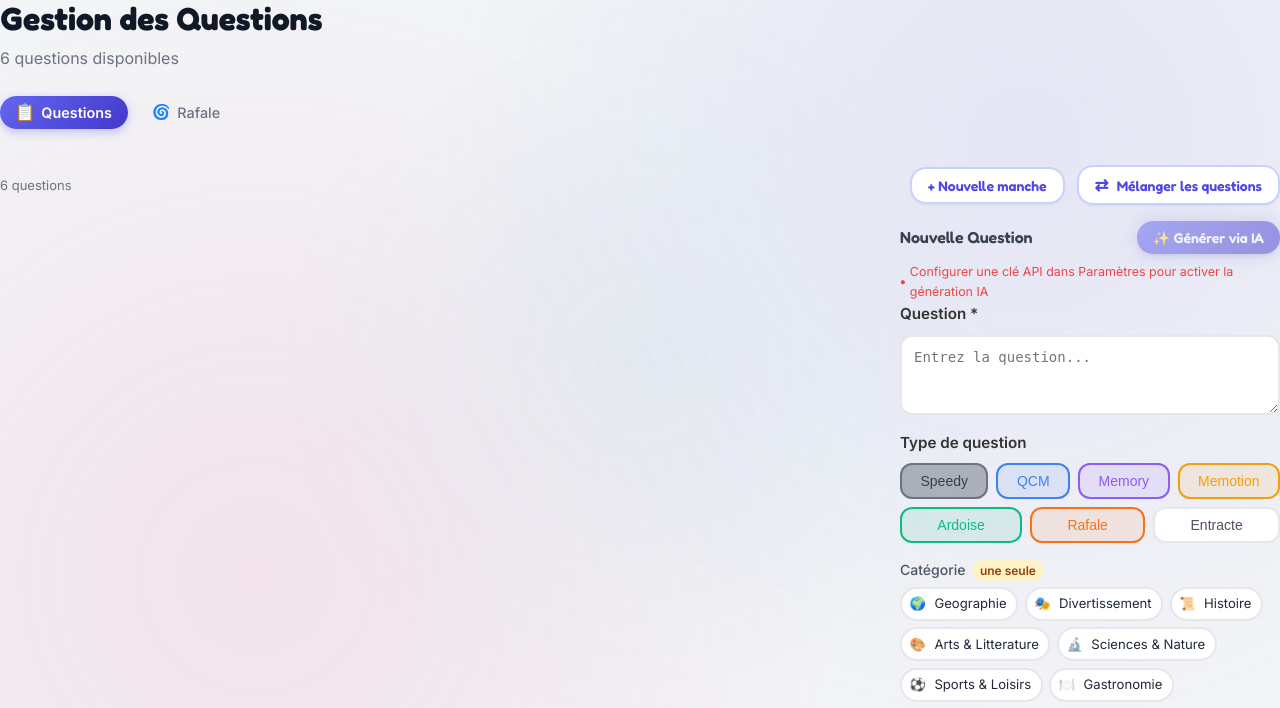
Scenario: QuestionsPage — Mélanger les questions (#149) › échec réseau (WebSocket fermé) -> aucune permutation confirmée, toast d'erreur affiché
Click the button "⇄ Mélanger les questions".
click(1178, 185)  # box [1077,165,1279,205]
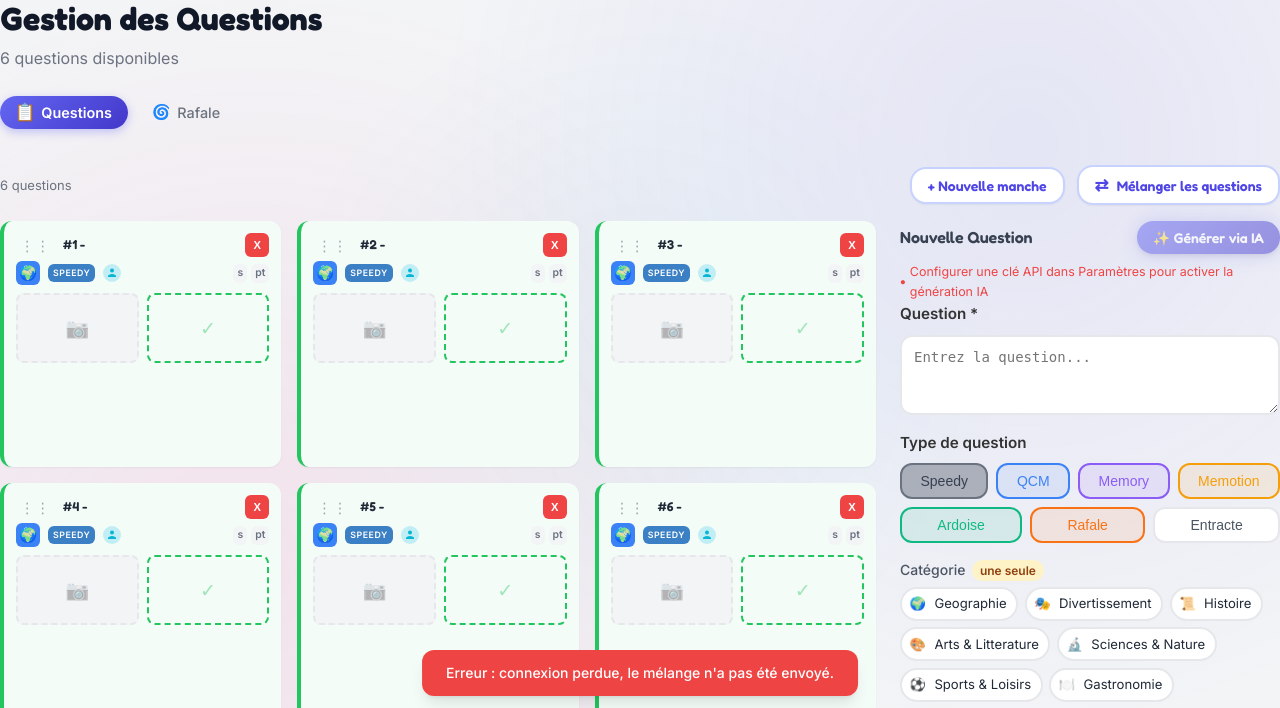
Expected: the text "Erreur : connexion perdue, le mélange n'a pas été envoyé." is shown, [422,650,858,696]
